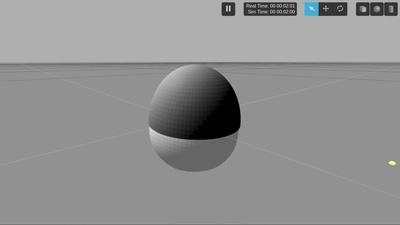mira_robot: (148, 64, 241, 172)
